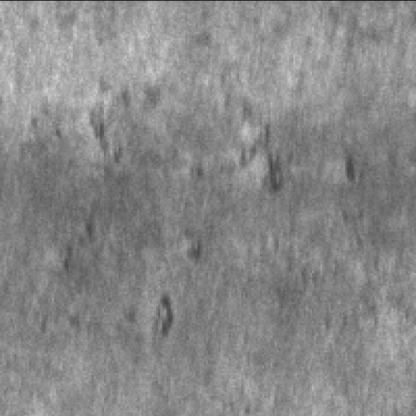rolled-in_scale: (81, 64, 356, 192), (133, 217, 204, 345)
